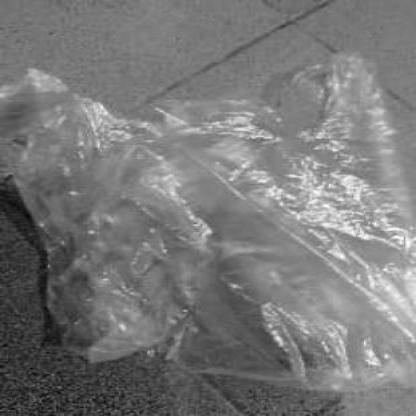objects: (0, 55, 416, 386)
